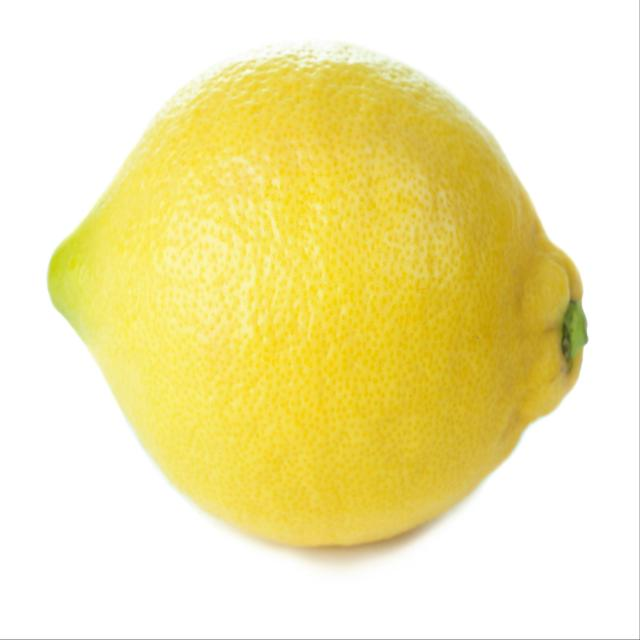lemon: (42, 41, 593, 564)
